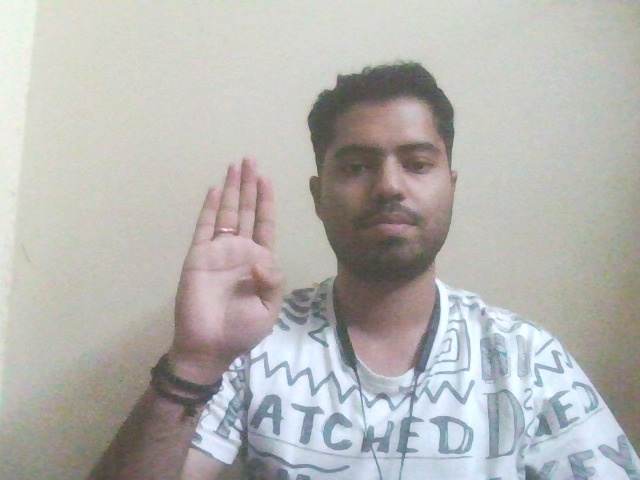IloveYou: (151, 145, 311, 360)
